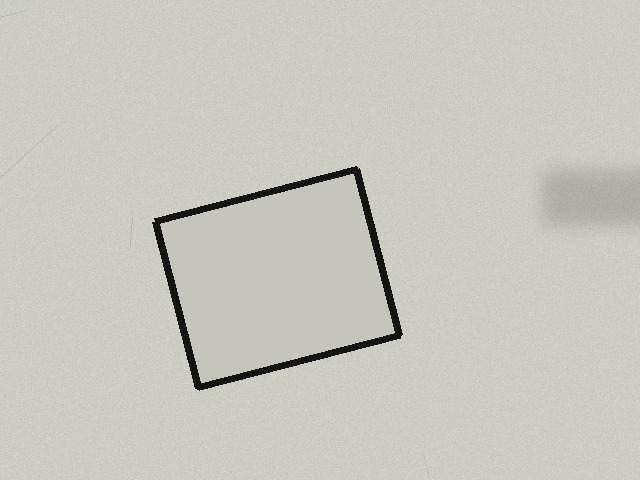parking_area: (155, 169, 399, 387)
